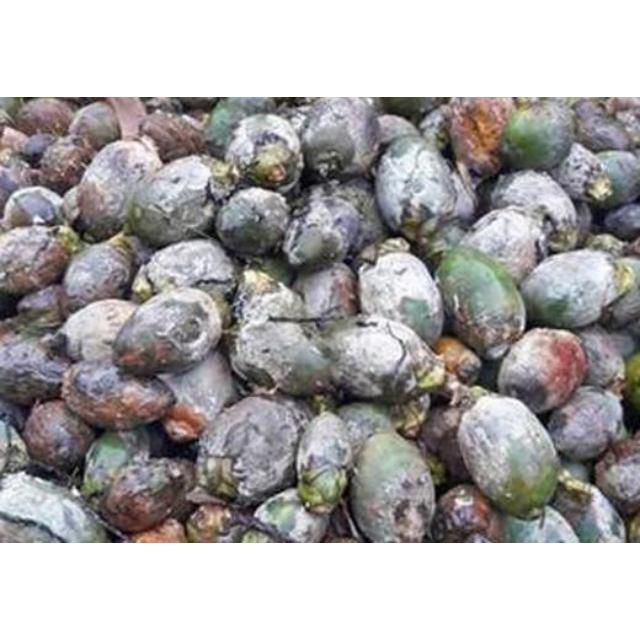damaged: (461, 385, 559, 523), (196, 394, 312, 506), (434, 245, 530, 358), (347, 431, 438, 542), (113, 287, 225, 377), (324, 316, 434, 404), (228, 314, 338, 398), (517, 249, 627, 331), (73, 138, 161, 240), (126, 156, 222, 248), (62, 358, 176, 432), (488, 170, 580, 252), (134, 238, 240, 308), (280, 186, 364, 272), (295, 98, 379, 182), (460, 208, 550, 282), (222, 112, 302, 192), (60, 234, 140, 310), (0, 224, 78, 298), (213, 187, 290, 260), (22, 399, 94, 475)
